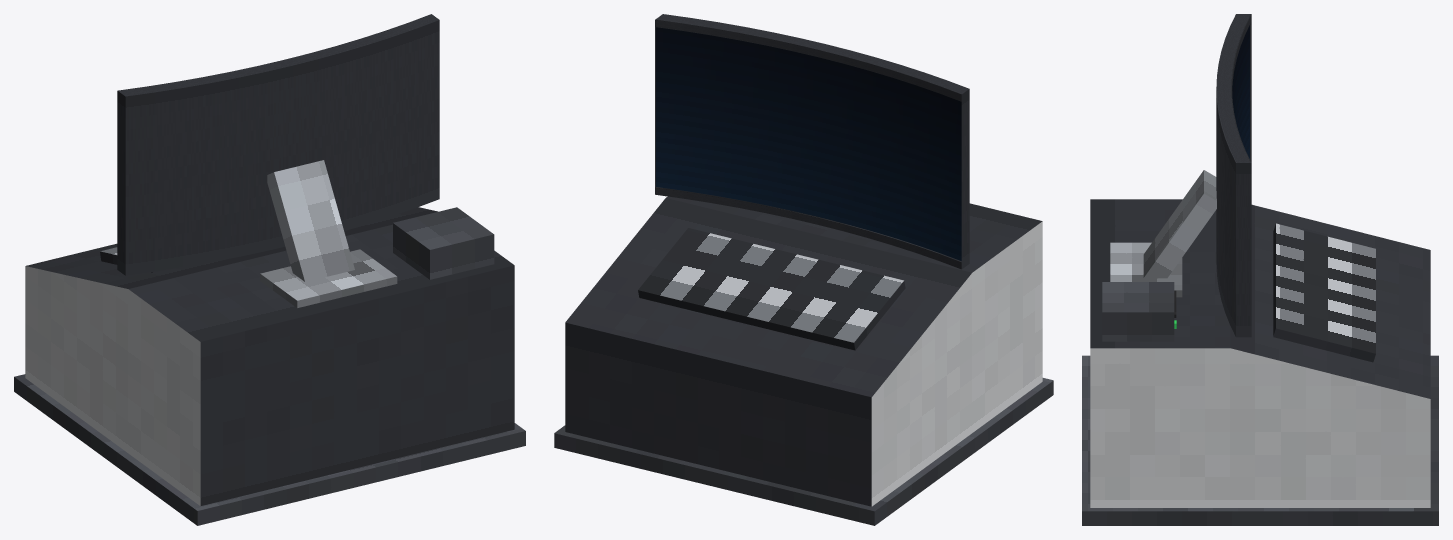
File: ai_terminal.obj
3 renders of one model, left to right at view 1: azimuth 30°, elevation 25°; view 2: azimuth 150°, elevation 25°; view 3: azimuth 270°, elevation 25°, orthographic. The views are drawn at different scales.
Size of the model in its own units: 0.92 by 0.99 by 0.89.
